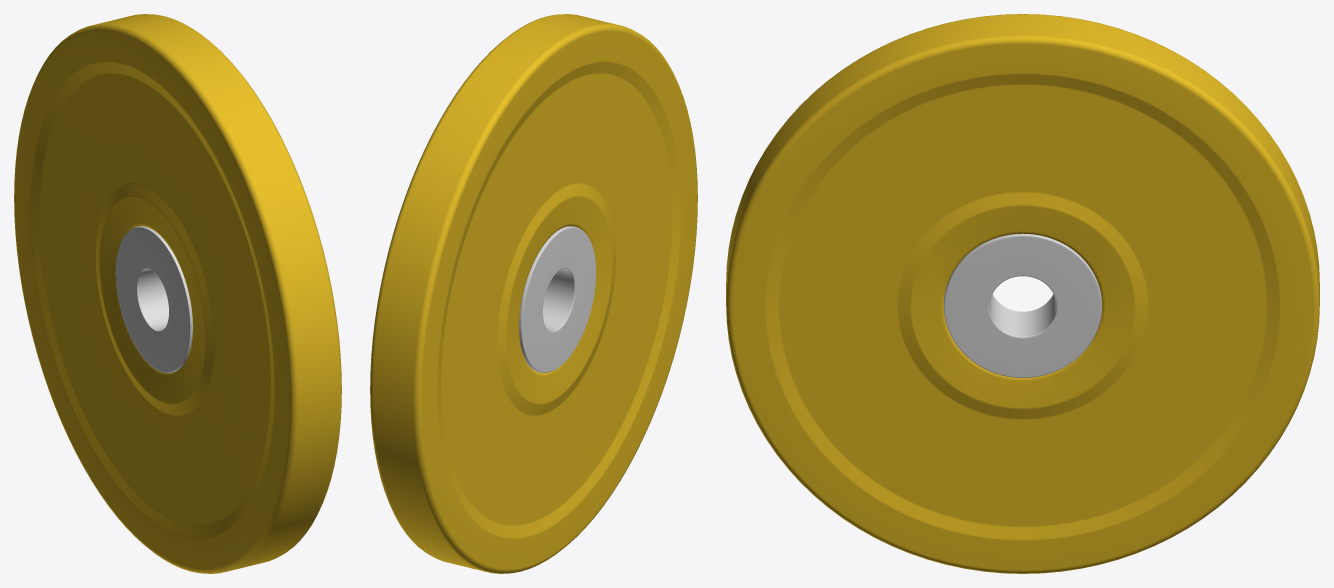
File: plate_bumper_15kg.glb
3 views of the same model, side by side, from view 1: azimuth 30°, elevation 25°; view 2: azimuth 150°, elevation 25°; view 3: azimuth 270°, elevation 25° (orthographic). The views are drawn at different scales.
Parts seen in each view (by area): view 1: plate_bumper_15kg__bumper_yellow, plate_bumper_15kg__steel; view 2: plate_bumper_15kg__bumper_yellow, plate_bumper_15kg__steel; view 3: plate_bumper_15kg__bumper_yellow, plate_bumper_15kg__steel.
Part boxes in pixels (box(x1,y1,x2,y2)): plate_bumper_15kg__bumper_yellow: box(14, 14, 341, 573); plate_bumper_15kg__steel: box(115, 226, 192, 372); plate_bumper_15kg__bumper_yellow: box(370, 14, 697, 573); plate_bumper_15kg__steel: box(519, 226, 596, 372); plate_bumper_15kg__bumper_yellow: box(726, 14, 1319, 573); plate_bumper_15kg__steel: box(943, 233, 1102, 377).
Bounding box in the file's own units: 0.047 × 0.45 × 0.45.
